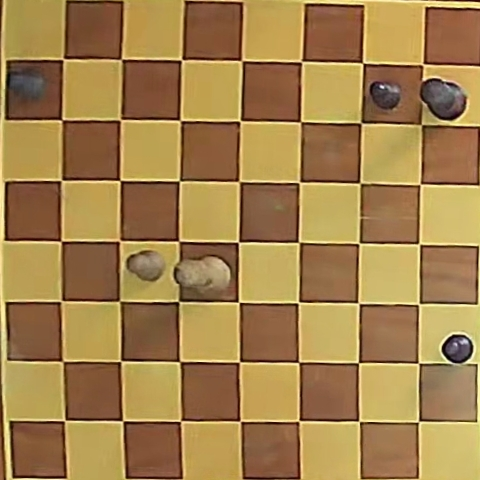black-king: (419, 78, 466, 120)
black-pawn: (8, 67, 47, 101), (370, 81, 402, 110), (441, 335, 472, 364)
white-king: (175, 256, 232, 291)
white-pawn: (126, 250, 166, 281)
